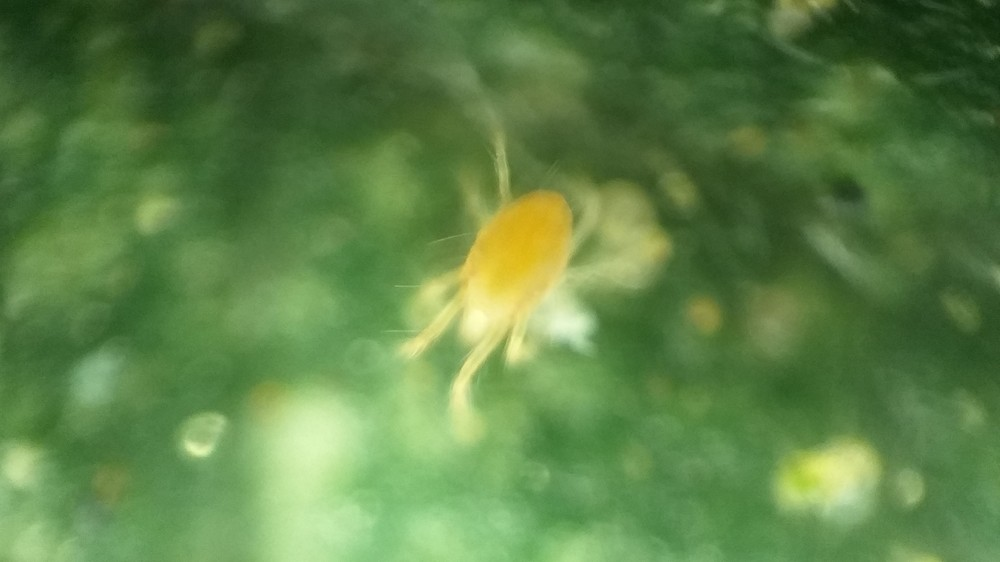Aracnido Rojo: (367, 123, 602, 448)
